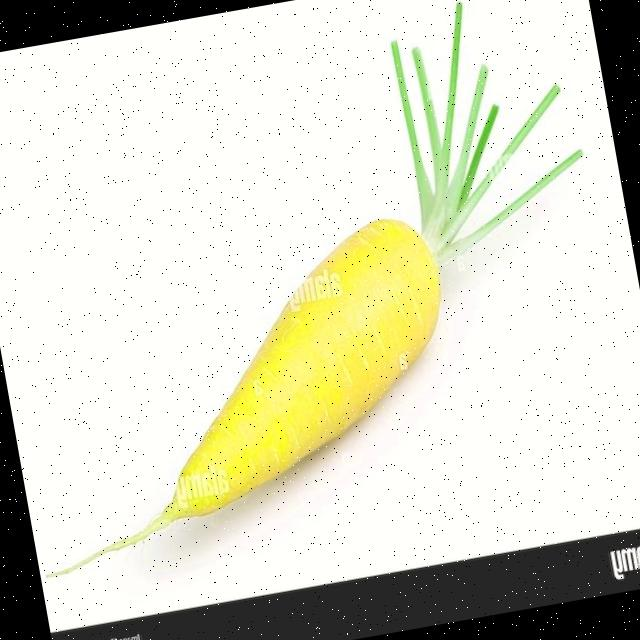carrot: (48, 2, 583, 577)
